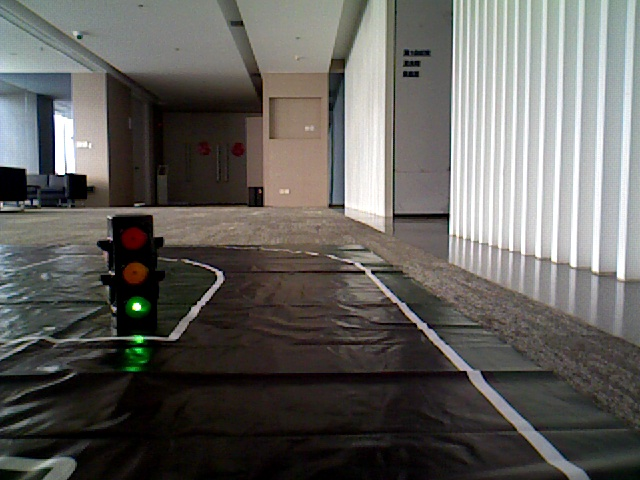green: (118, 217, 151, 316)
